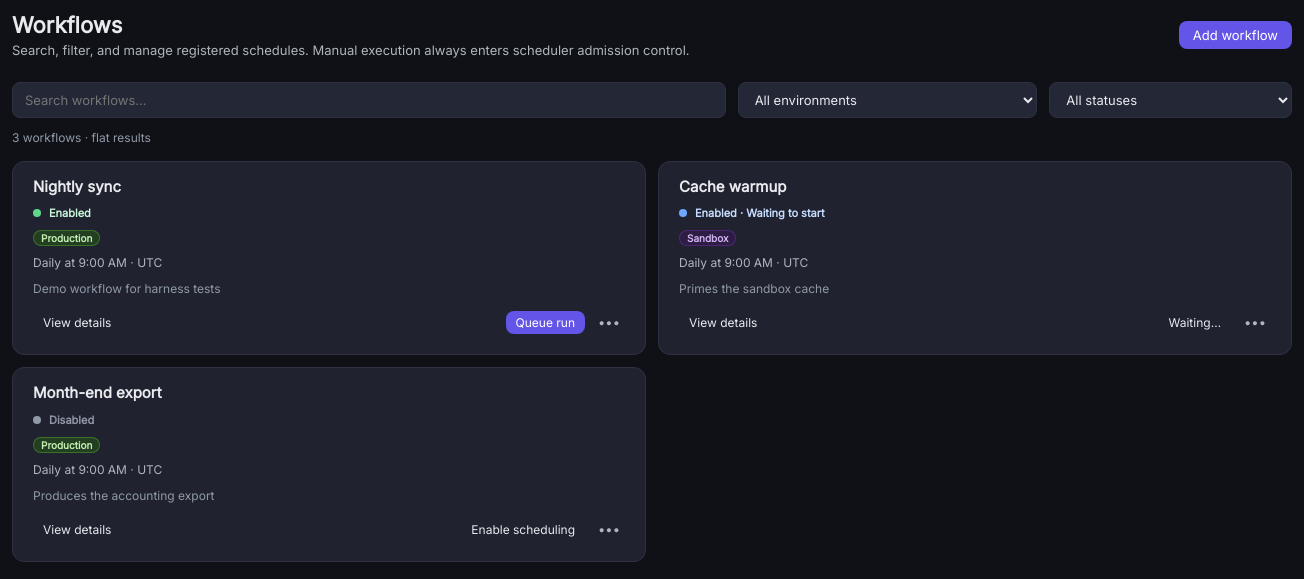
Test case: WorkflowList › renders flat searchable cards and only observed queue activity
Expected: the text "Enabled · Waiting to start" is shown, [695,206,825,220]
Expected: the text "3 workflows · flat results" is shown, [12,130,151,144]
Type "cache" into the search field labelled "Search workflows" at (369, 100), box [12,82,726,118]
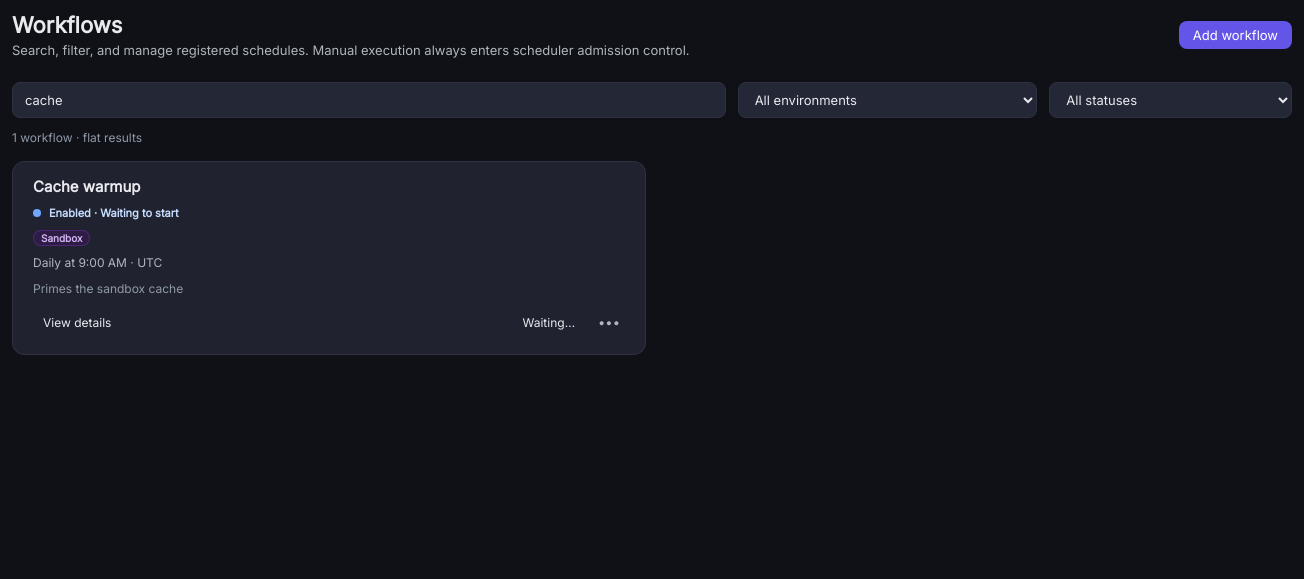
Expected: the button "Cache warmup" is shown, [33,178,625,196]
Result: the text "1 workflow · flat results" is shown at [12,130,142,144]
Result: the button "Nightly sync" is gone
Clear the search field named "Search workflows" at (369, 100), box [12,82,726,118]
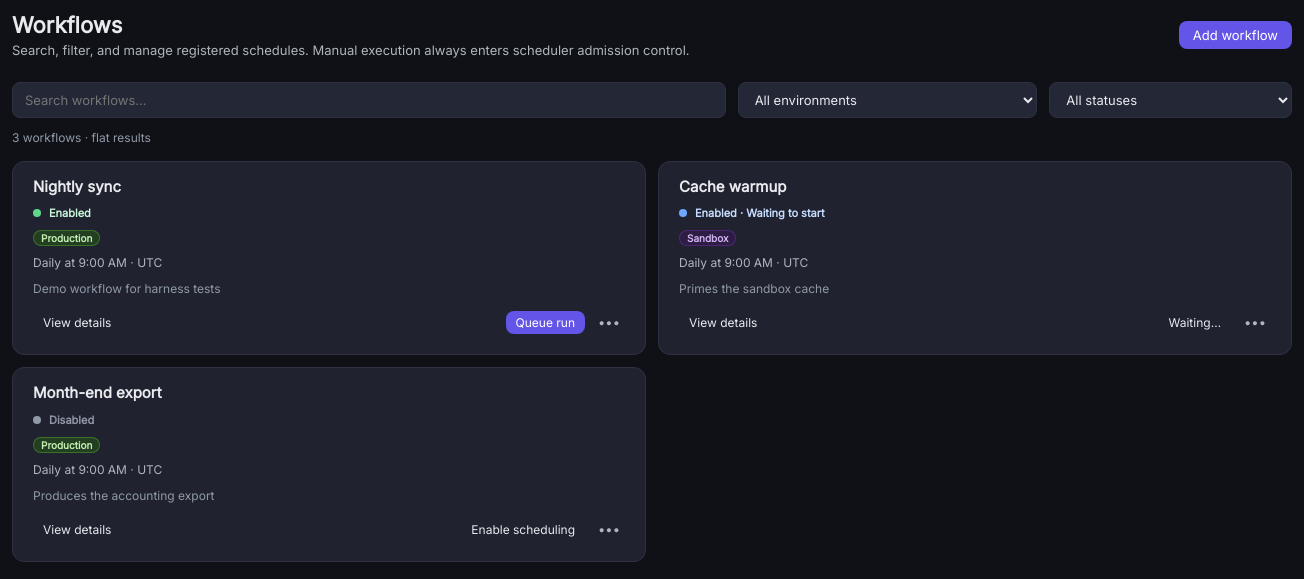
Select "Disabled" in the 2nd dropdown named "Status" at (1171, 100), box [1049,82,1292,118]
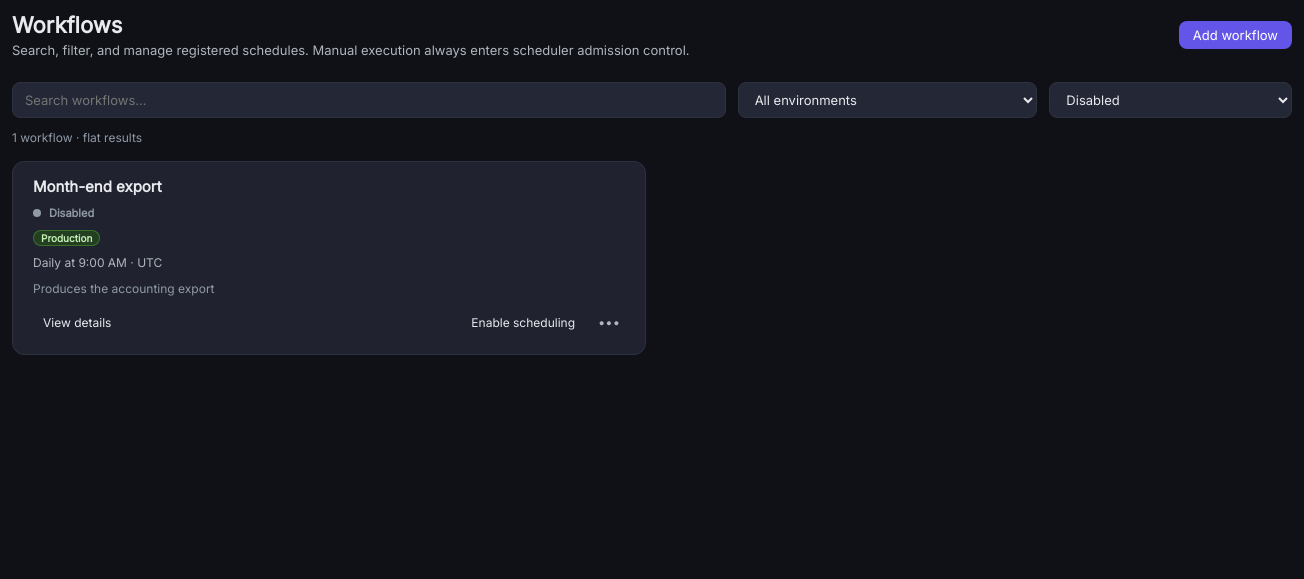
Result: the button "Month-end export" is shown at [33,178,625,196]
Result: the button "Cache warmup" is gone
Select "All statuses" in the 2nd dropdown named "Status" at (1171, 100), box [1049,82,1292,118]
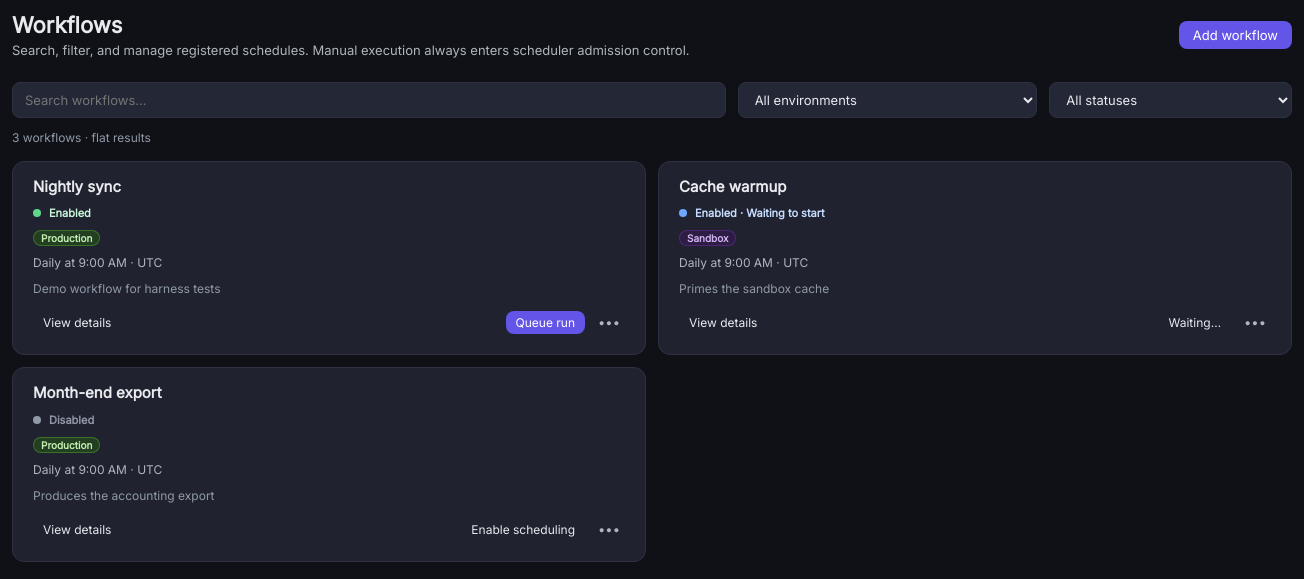
Select "Sandbox (1)" in the 1st dropdown named "Environment" at (887, 100), box [738,82,1037,118]
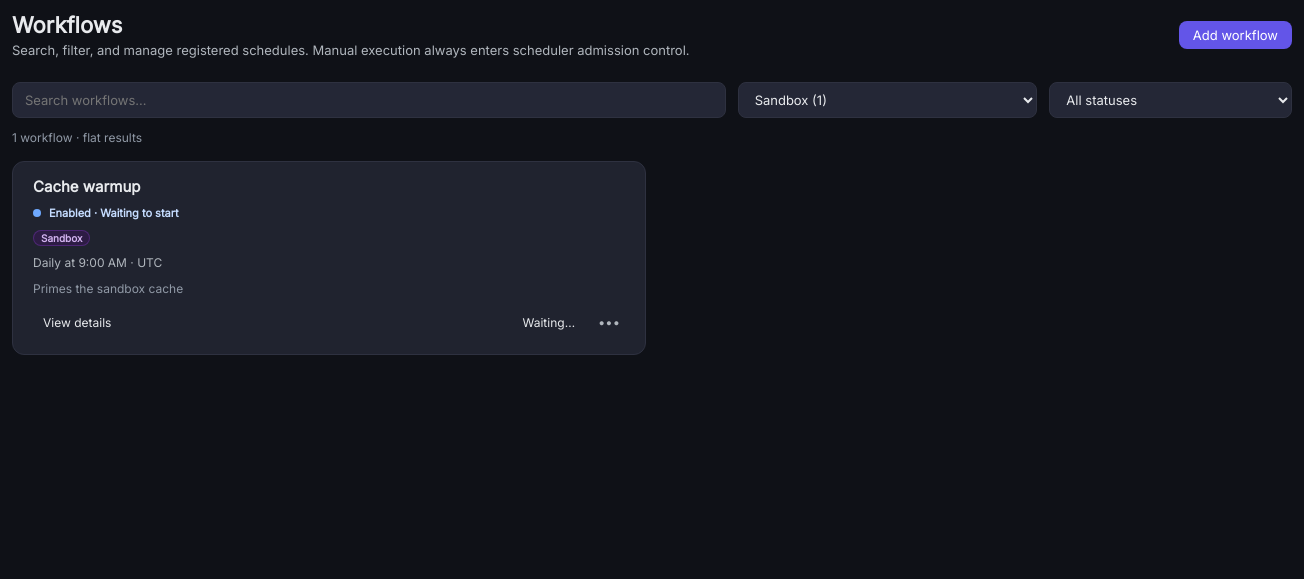
Result: the button "Cache warmup" is shown at [33,178,625,196]
Result: the button "Nightly sync" is gone
